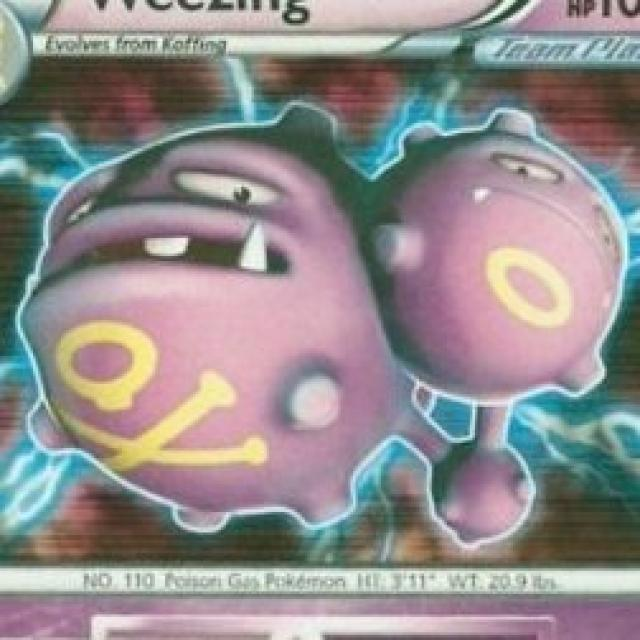Weezing: (39, 98, 621, 532)
